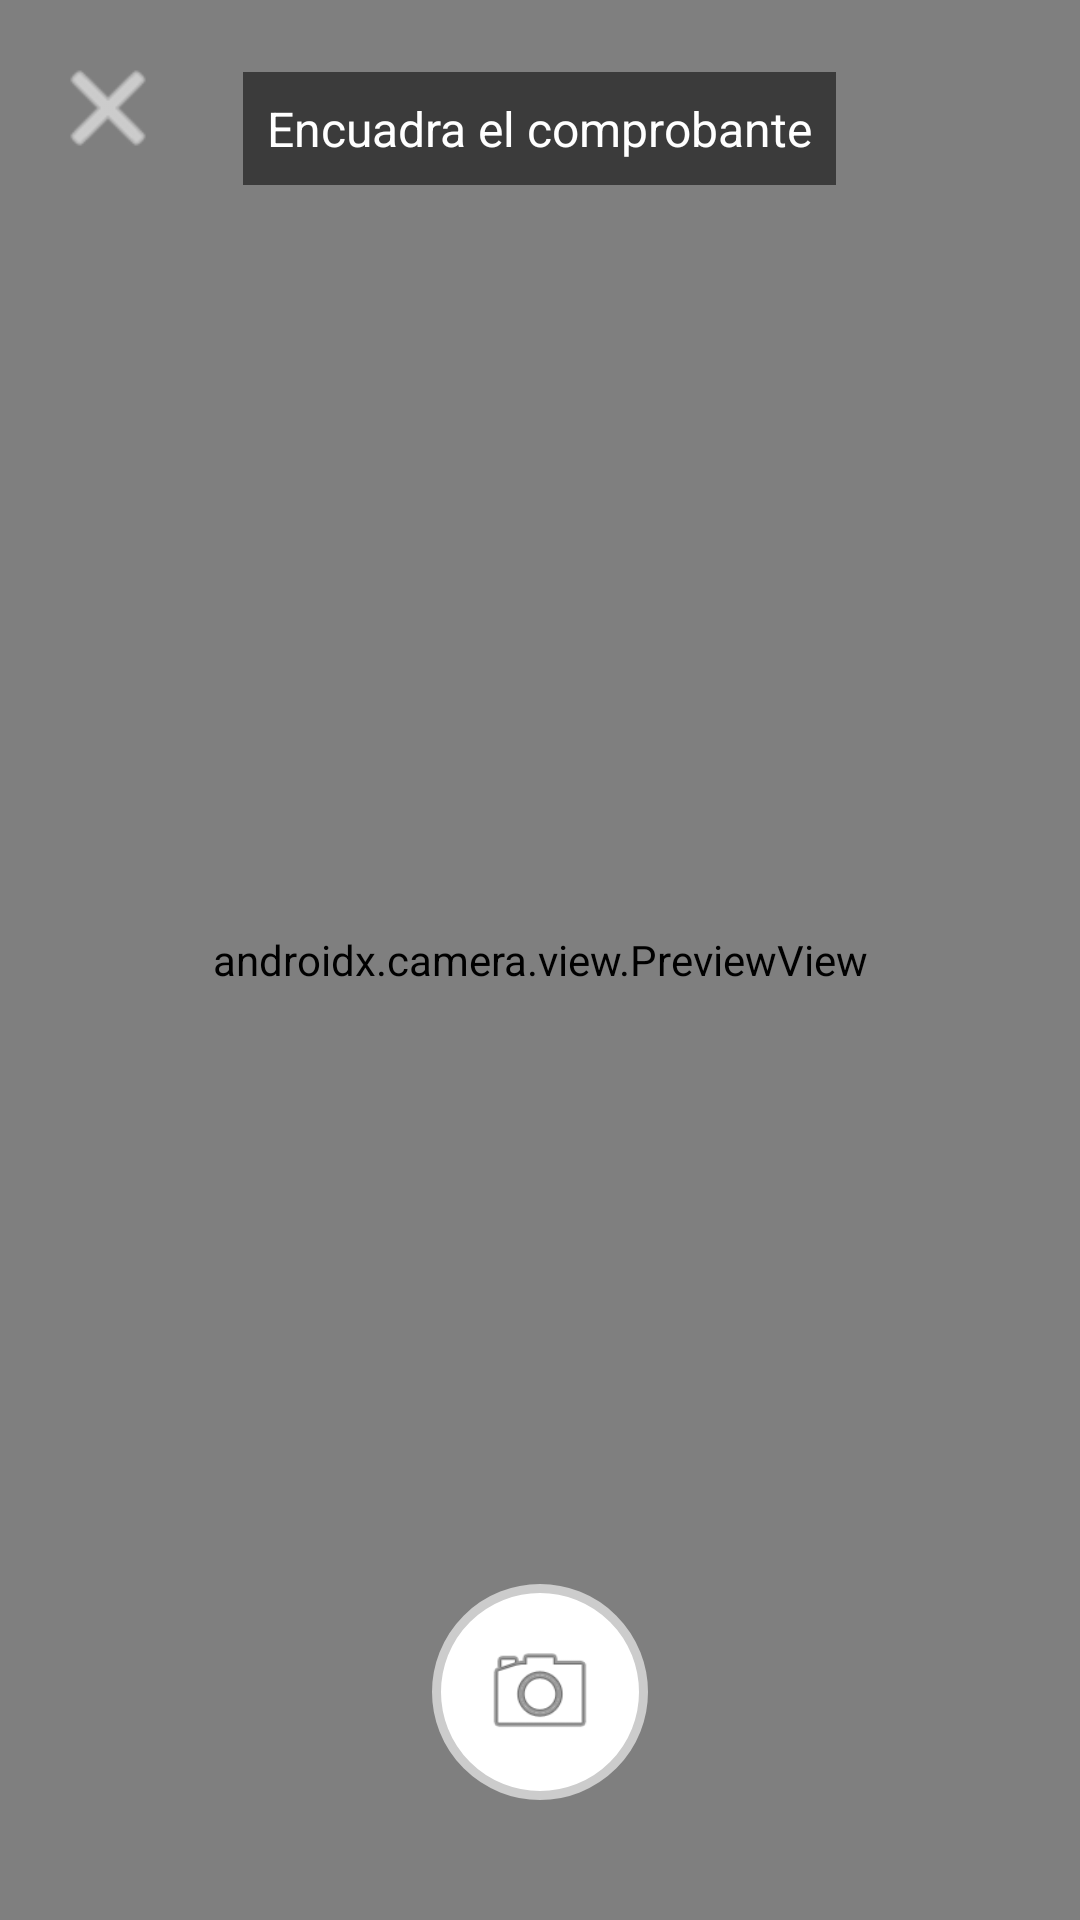

Named icons in this screenshot (1080x1920) and their centers, [x,y]:
Capturar: [540,1692]
Cerrar: [108,108]
